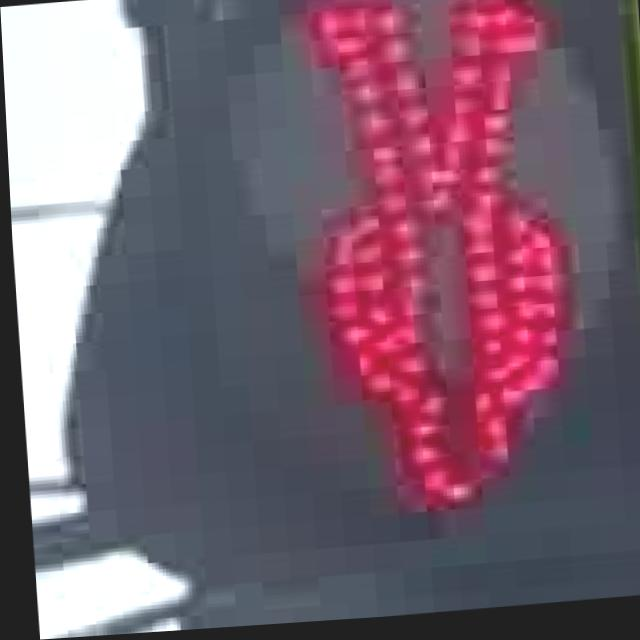red_light: (265, 0, 591, 564)
